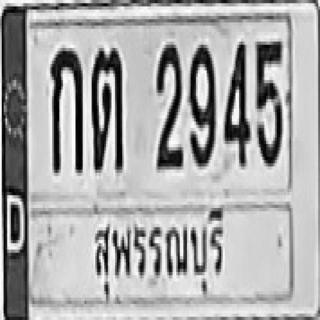A01: (50, 45, 83, 173)
A21: (90, 46, 122, 171)
N02: (155, 42, 183, 170)
N04: (223, 40, 250, 165)
N05: (255, 38, 282, 166)
N09: (189, 43, 214, 165)
